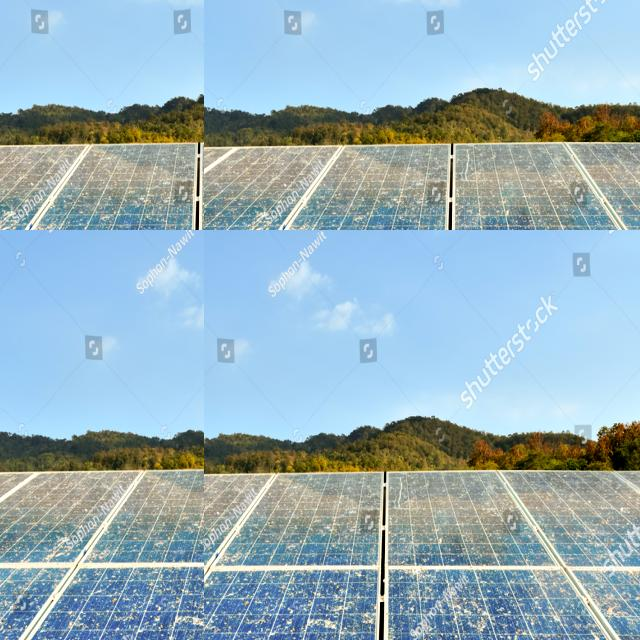bird: (316, 588, 376, 634), (531, 586, 576, 640), (449, 590, 502, 631), (594, 576, 638, 625), (204, 591, 240, 640), (258, 582, 298, 626), (396, 577, 430, 625), (204, 602, 237, 640)
crack: (0, 0, 150, 230), (29, 0, 204, 165)
panel: (374, 8, 480, 89)
